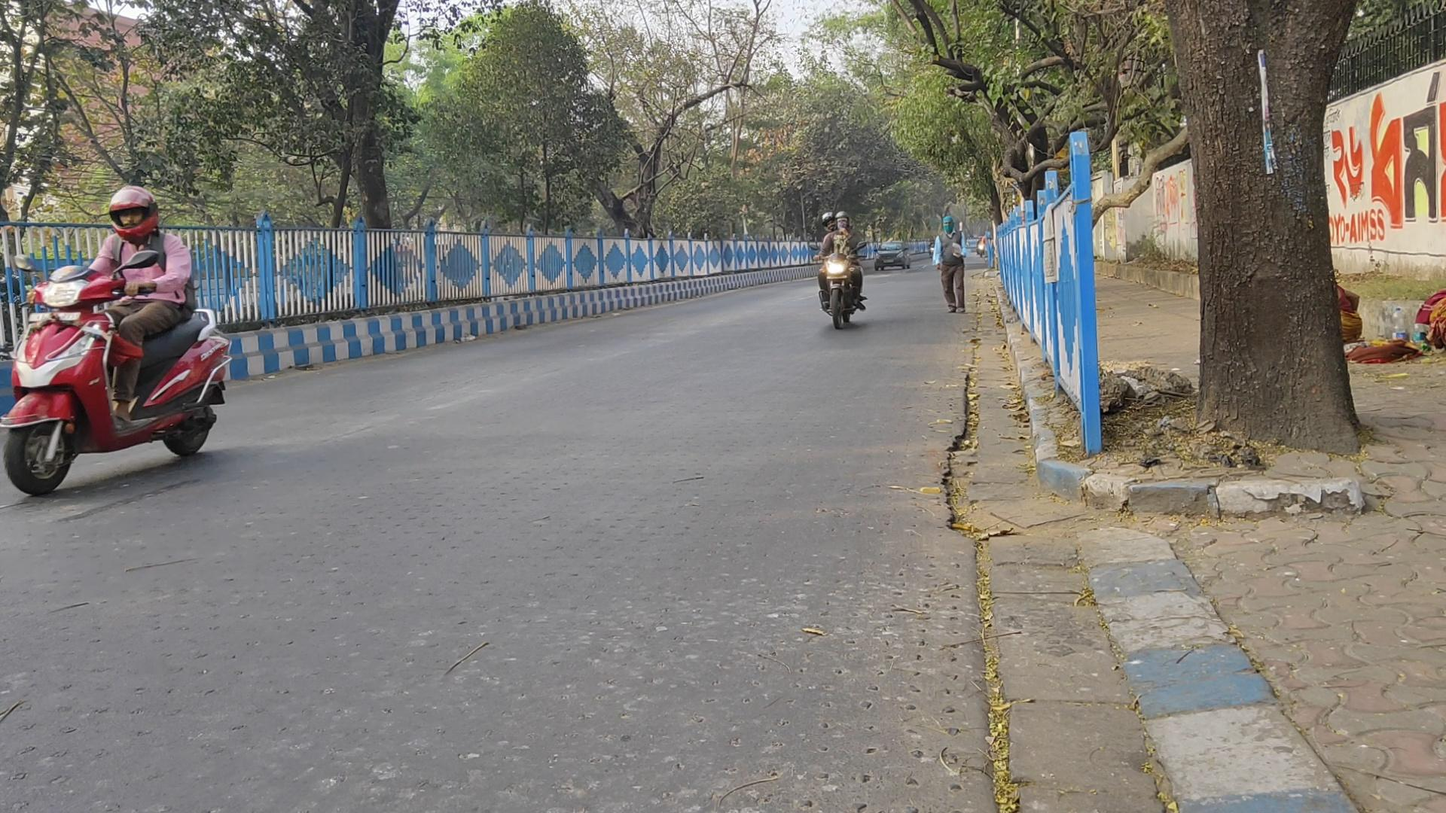bike: (6, 184, 231, 495), (816, 209, 868, 330), (975, 236, 985, 258)
car: (874, 241, 912, 270)
